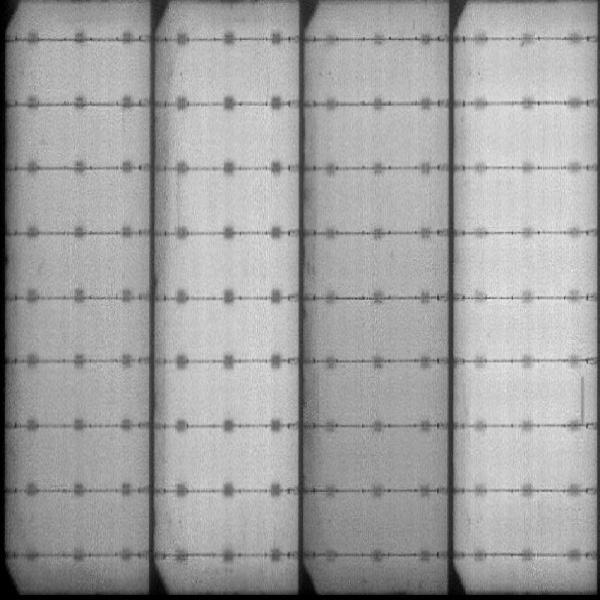scratch: (578, 374, 587, 426)
